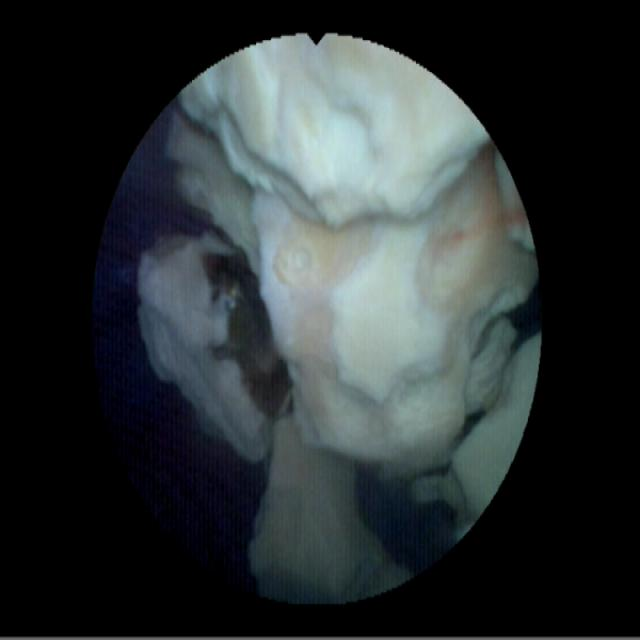stone: (134, 36, 533, 594)
